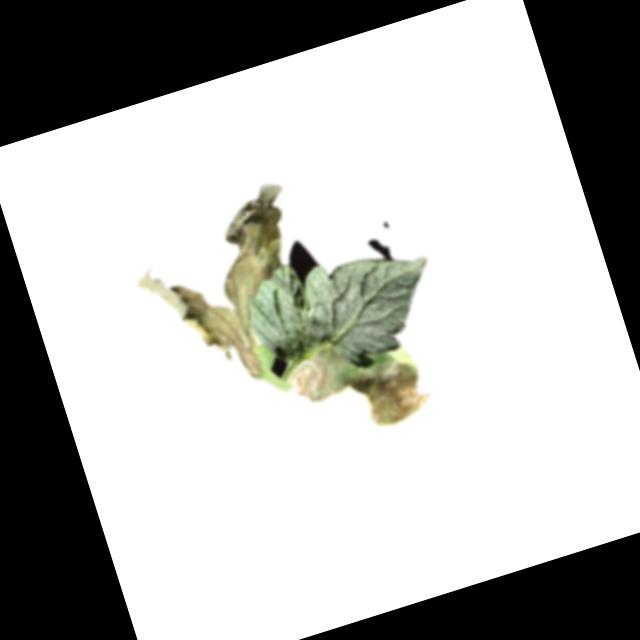Late_blight: (118, 178, 333, 403), (283, 321, 439, 454)
